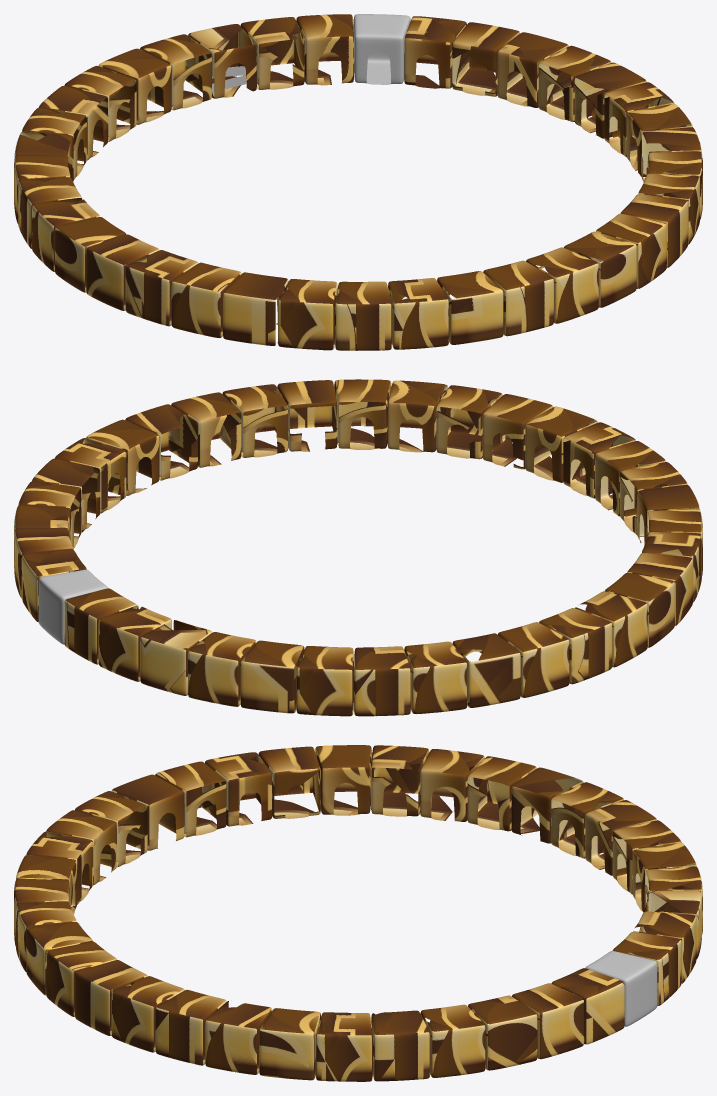
Rendered from tablero.FBX.
3 renders of one model, top to bottom at view 1: azimuth 30°, elevation 25°; view 2: azimuth 150°, elevation 25°; view 3: azimuth 270°, elevation 25°, orthographic.
Parts seen in each view (by area): view 1: cajas, x; view 2: cajas, x; view 3: cajas, x.
Boxes of the visible parts, <box> form: cajas: <box>14,14,702,350</box>; x: <box>188,24,256,98</box>; cajas: <box>14,379,702,716</box>; x: <box>140,620,212,695</box>; cajas: <box>14,745,702,1081</box>; x: <box>644,890,702,959</box>.
Size of what is drawn, in the model's own units: 855 by 66.54 by 855.
